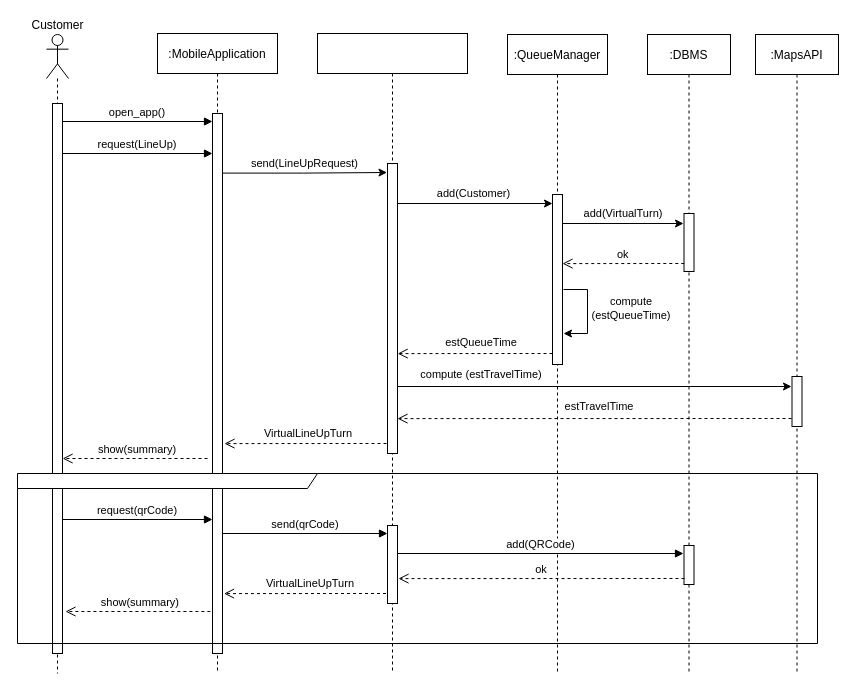
The diagram is 856 pixels wide and 692 high, and some of its shapes have lost their labels. Here are the shapes that lost their labels. From the top down, the box of each, then its label:
(316, 32, 468, 674): :LineUpReservationModule
(16, 472, 818, 644): alt: if Customer clicks on "Generate QR Code" button
